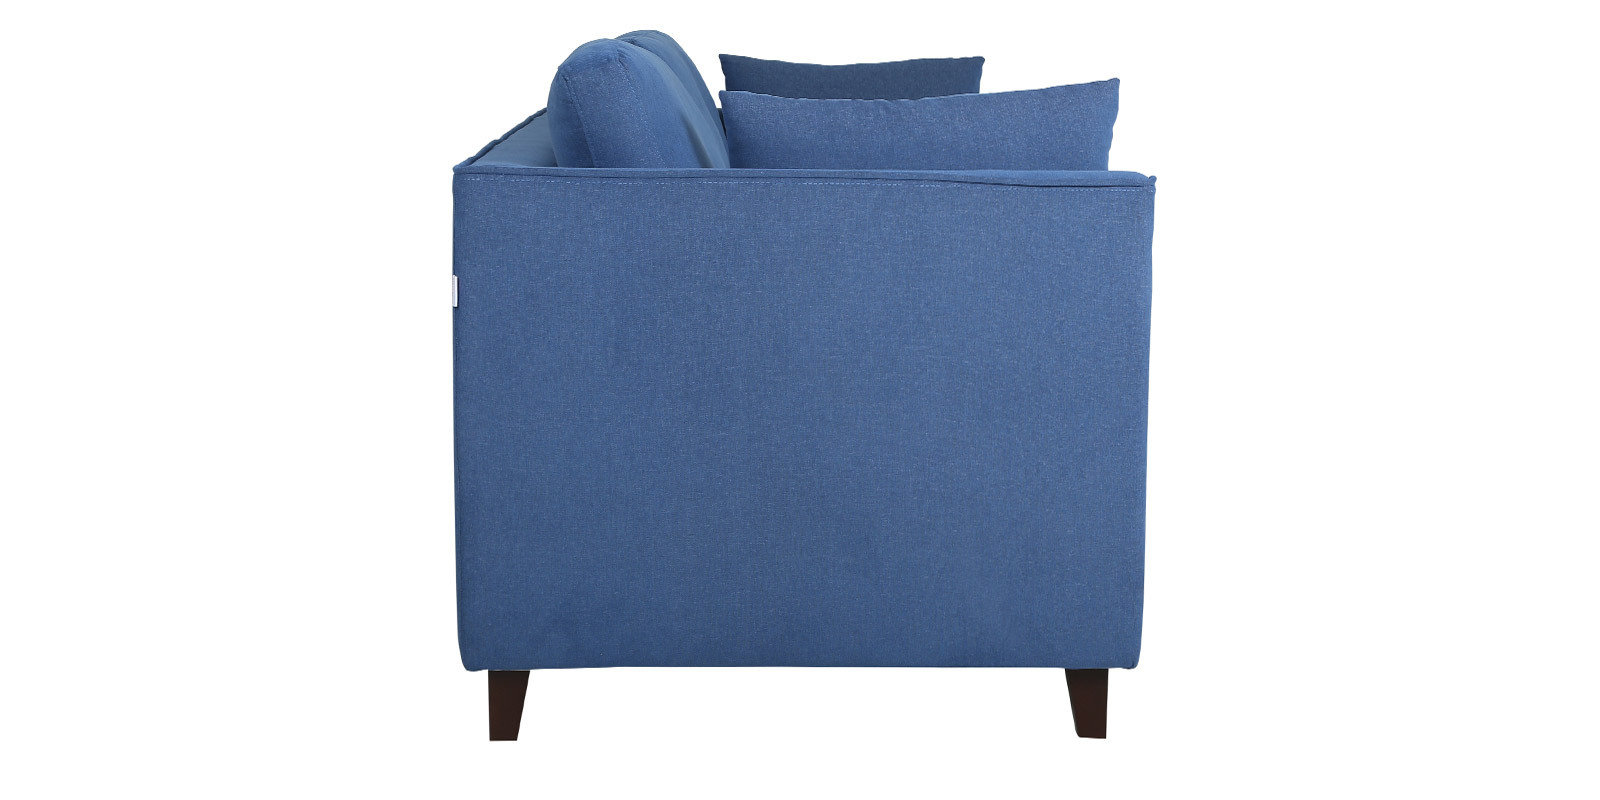Miranda Three Seater Sofa in Denim Blue Colour by CasaCraft: (449, 28, 1157, 739)
